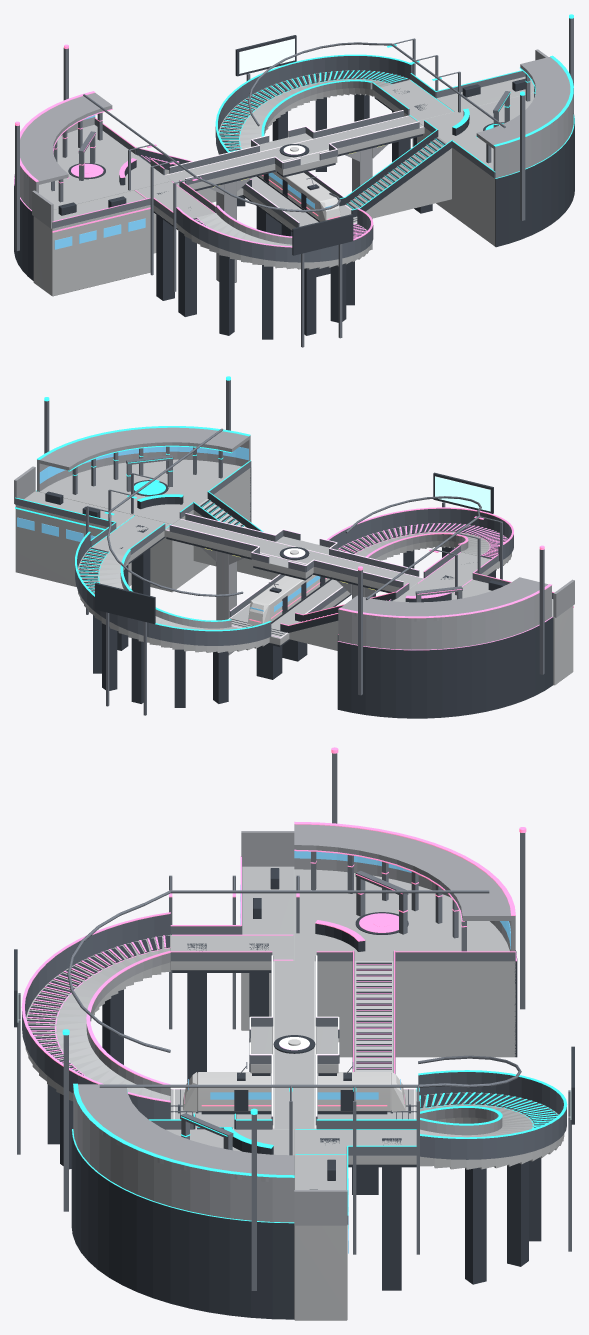
File: relay_arena.glb
3 views of the same model, one above another, from view 1: azimuth 30°, elevation 25°; view 2: azimuth 150°, elevation 25°; view 3: azimuth 270°, elevation 25° (orthographic). The views are drawn at different scales.
Visible parts, largest first — view 1: CrimsonAnnex, AzureCourt_00, AzureEscalator_Body0, Bridge, CrimsonBillboard, AzureWalkway, CrimsonWalkwayPier-11, CrimsonWalkwayPier-4, CrimsonWalkway, Platform, CrimsonLoopPier1, AzureBillboardScreen (+40 smaller); view 2: AzureAnnex, Bridge, AzureCourt_00, AzureCourt_09, CrimsonAnnex, AzureBillboard, Platform, AzureWalkway, CrimsonWalkway, BridgePier12, TrainBody, CrimsonBillboardScreen (+54 smaller); view 3: CrimsonCourt_00, AzureAnnex, Bridge, TrainBody, CrimsonAnnex, CrimsonWalkway, CrimsonEscalator_Body0, AzureWalkway, AzureWalkwayPier-11, AzureLoopPier1, AzureFacade_15, AzureLoopPier2 (+47 smaller).
Boxes of the visible parts, <box> form: CrimsonAnnex: <box>33,190,150,296</box>; AzureCourt_00: <box>417,121,495,246</box>; AzureEscalator_Body0: <box>346,137,451,218</box>; Bridge: <box>164,116,424,189</box>; CrimsonBillboard: <box>292,214,353,255</box>; AzureWalkway: <box>373,80,454,120</box>; CrimsonWalkwayPier-11: <box>178,207,196,316</box>; CrimsonWalkwayPier-4: <box>156,191,174,300</box>; CrimsonWalkway: <box>134,181,215,228</box>; Platform: <box>243,176,357,230</box>; CrimsonLoopPier1: <box>219,255,234,335</box>; AzureBillboardScreen: <box>239,38,294,73</box>; AzureAnnex: <box>15,491,133,586</box>; Bridge: <box>164,519,423,592</box>; AzureCourt_00: <box>172,464,250,591</box>; AzureCourt_09: <box>37,483,172,592</box>; CrimsonAnnex: <box>462,579,573,685</box>; AzureBillboard: <box>95,582,155,623</box>; Platform: <box>229,579,350,645</box>; AzureWalkway: <box>91,515,171,562</box>; CrimsonWalkway: <box>417,552,498,592</box>; BridgePier12: <box>216,551,236,654</box>; TrainBody: <box>251,574,329,621</box>; CrimsonBillboardScreen: <box>435,476,490,511</box>; CrimsonCourt_00: <box>296,946,515,1057</box>; AzureAnnex: <box>294,1155,347,1320</box>; Bridge: <box>272,961,316,1129</box>; TrainBody: <box>197,1072,391,1111</box>; CrimsonAnnex: <box>241,866,294,1030</box>; CrimsonWalkway: <box>170,935,294,970</box>; CrimsonEscalator_Body0: <box>354,961,393,1072</box>; AzureWalkway: <box>294,1129,416,1164</box>; AzureWalkwayPier-11: <box>382,1138,401,1290</box>; AzureLoopPier1: <box>465,1167,486,1284</box>; AzureFacade_15: <box>272,1222,294,1319</box>; AzureLoopPier2: <box>507,1161,528,1266</box>.
Size of what is drawn, in the model's own units: 97.4 by 34.4 by 63.4.
